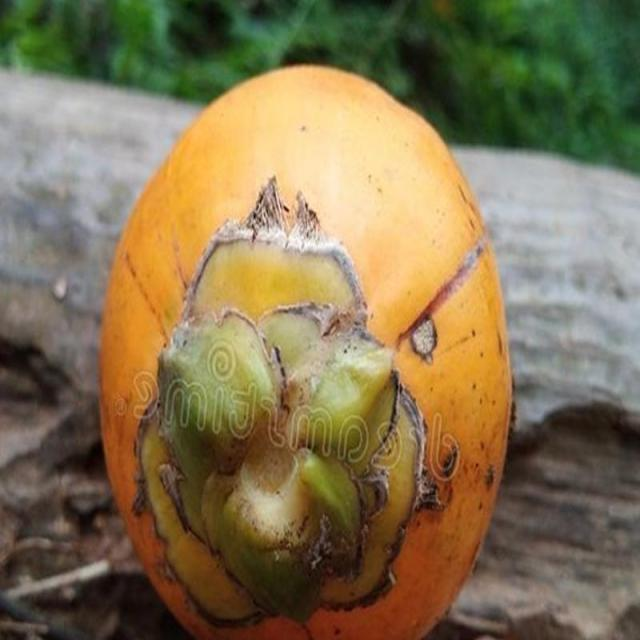good: (98, 65, 514, 639)
